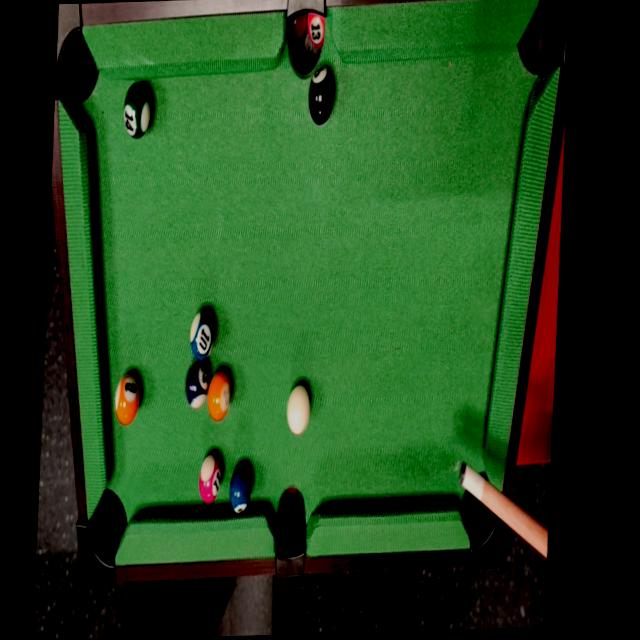cue ball: (284, 380, 315, 439)
other: (120, 75, 156, 142), (185, 304, 220, 362), (305, 70, 339, 127), (111, 369, 144, 425), (195, 451, 225, 506), (182, 356, 211, 410), (205, 369, 233, 423), (225, 465, 253, 518)
